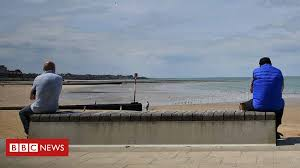Good: (18, 57, 286, 113)
